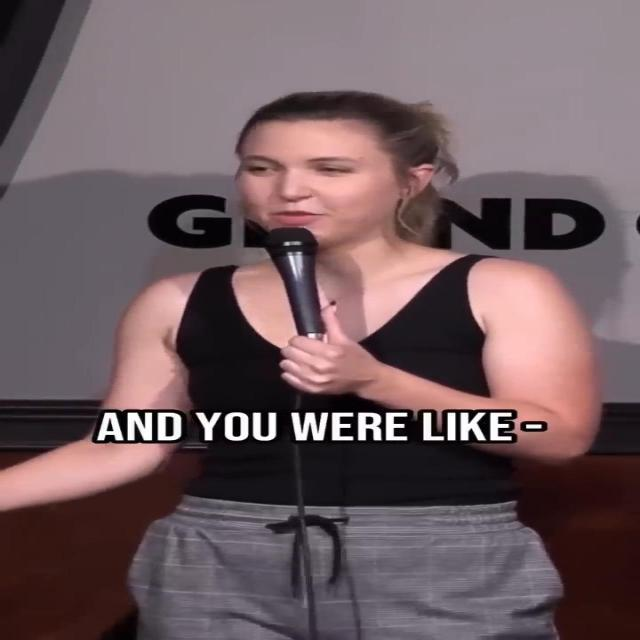NO-Mask: (231, 123, 417, 248)
